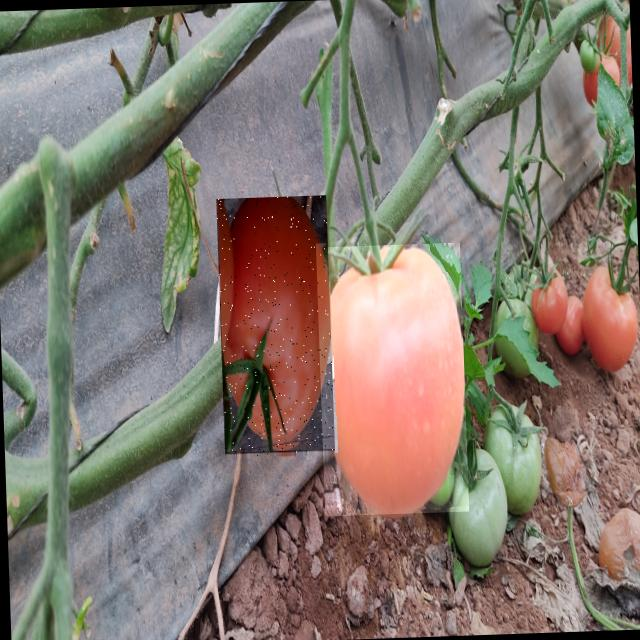Ripe Tomato: (316, 242, 469, 516), (216, 195, 334, 457)
